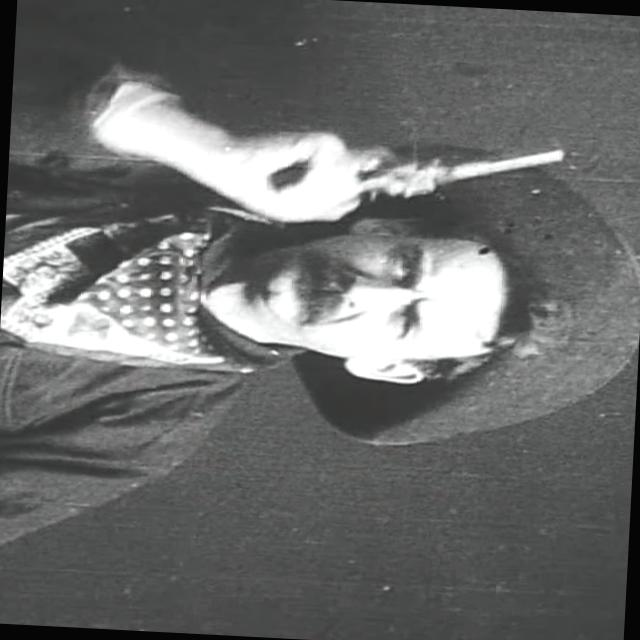handgun: (264, 122, 564, 216)
